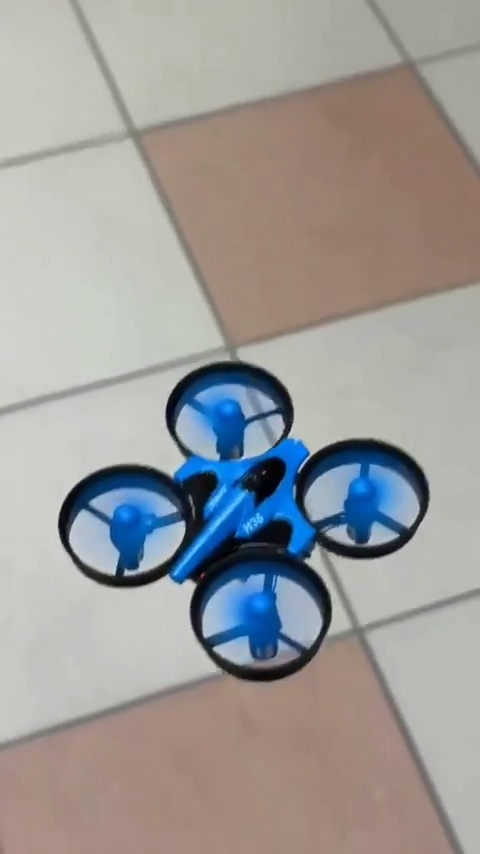drone: (54, 366, 432, 692)
